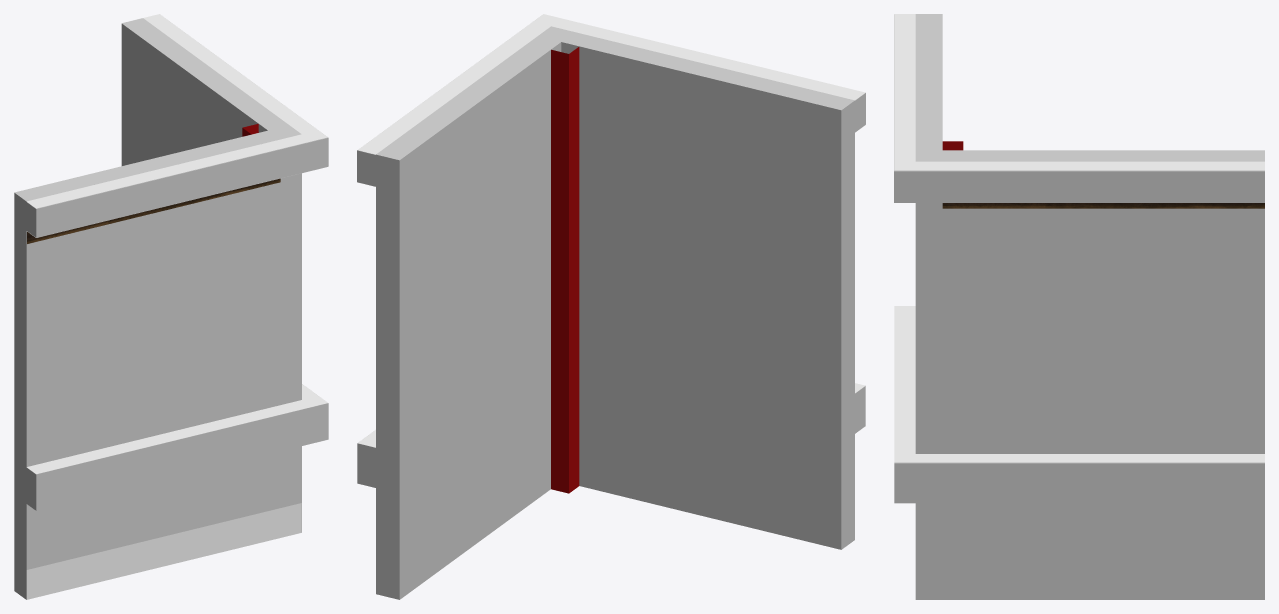
File: Wall_A_Exterior_Window_02_Corner.fbx
3 renders of one model, left to right at view 1: azimuth 30°, elevation 25°; view 2: azimuth 150°, elevation 25°; view 3: azimuth 270°, elevation 25°, orthographic. The views are drawn at different scales.
Visible parts, largest first — view 1: C_Wall_A_Exterior_Window_02_Corner, Wall_A_Exterior_Window_02_Corner; view 2: C_Wall_A_Exterior_Window_02_Corner, Wall_A_Exterior_Window_02_Corner; view 3: C_Wall_A_Exterior_Window_02_Corner, Wall_A_Exterior_Window_02_Corner.
Part boxes in pixels (box(x1,y1,x2,y2)): C_Wall_A_Exterior_Window_02_Corner: box(14, 18, 328, 599); Wall_A_Exterior_Window_02_Corner: box(26, 14, 327, 599); C_Wall_A_Exterior_Window_02_Corner: box(357, 26, 865, 599); Wall_A_Exterior_Window_02_Corner: box(358, 14, 865, 493); C_Wall_A_Exterior_Window_02_Corner: box(894, 14, 1264, 599); Wall_A_Exterior_Window_02_Corner: box(894, 14, 1264, 462).
Size of the model in its own units: 2.3 by 3 by 2.3.
